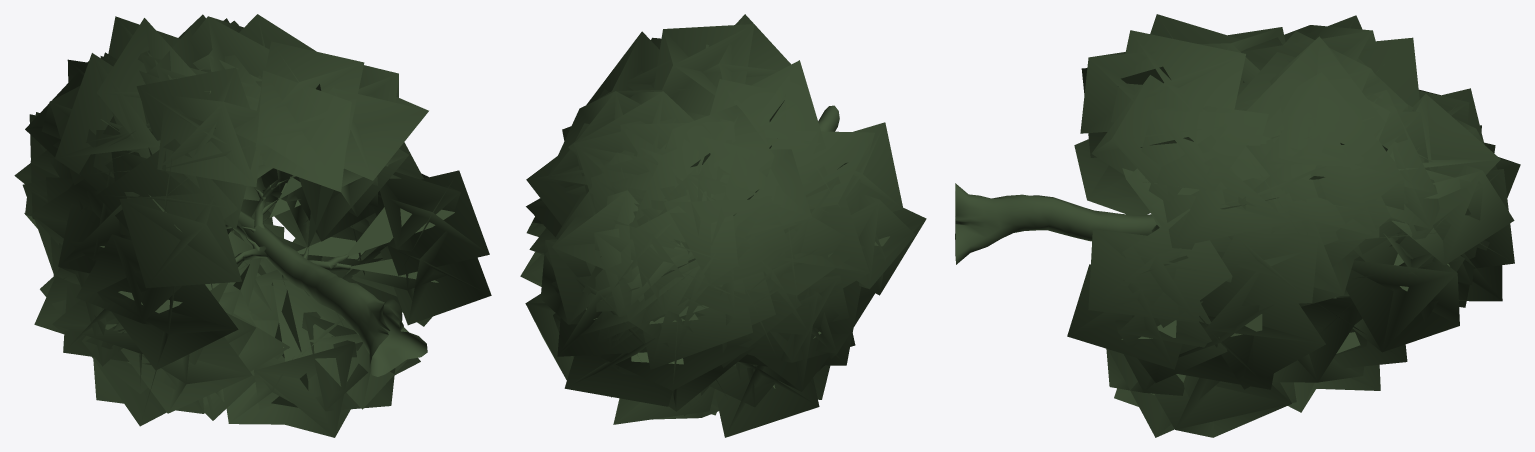
Rendered from tree01_lod1.glb.
The picture shows the model from 3 angles, left to right: view 1: azimuth 30°, elevation 25°; view 2: azimuth 150°, elevation 25°; view 3: azimuth 270°, elevation 25°; orthographic projection. The views are drawn at different scales.
Visible parts, largest first — view 1: tree01_lod1; view 2: tree01_lod1; view 3: tree01_lod1.
Boxes of the visible parts, x1,y1,x2,y2 form: tree01_lod1: (14,14,491,437); tree01_lod1: (520,14,926,437); tree01_lod1: (955,14,1520,437).
Bounding box in the file's own units: 4.55 × 4.51 × 6.12.
